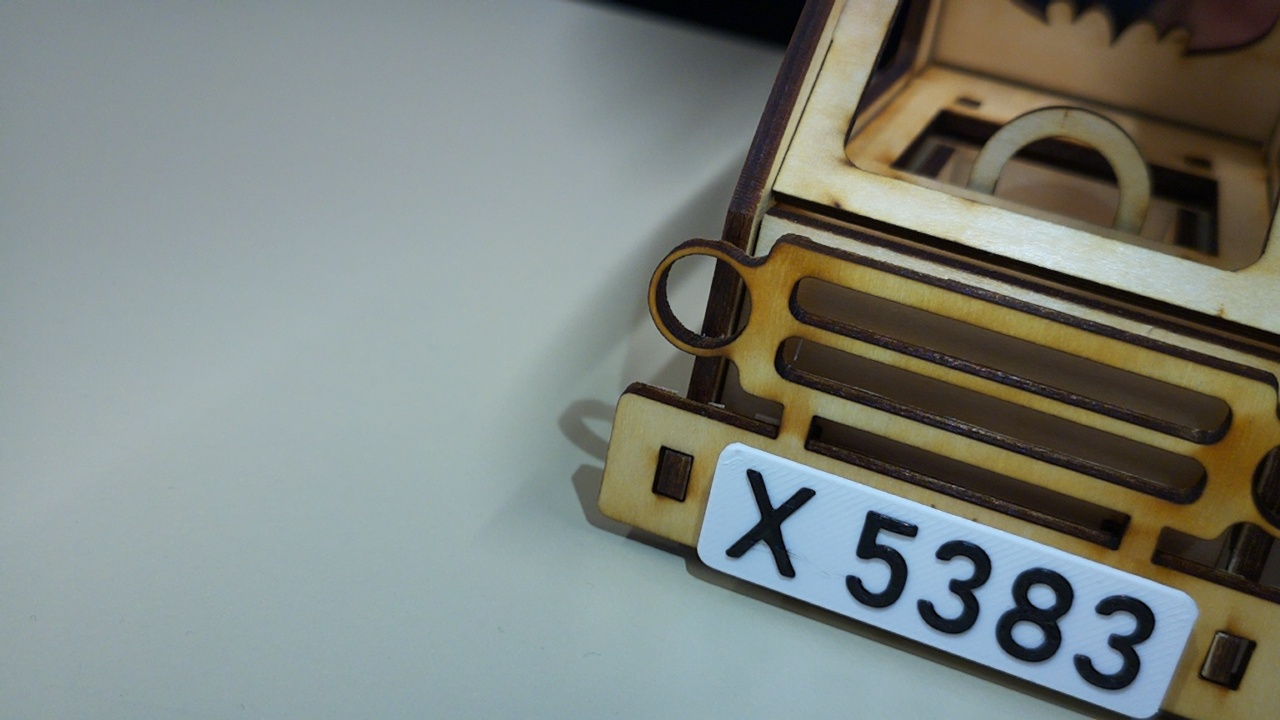license_plate: (694, 439, 1201, 719)
